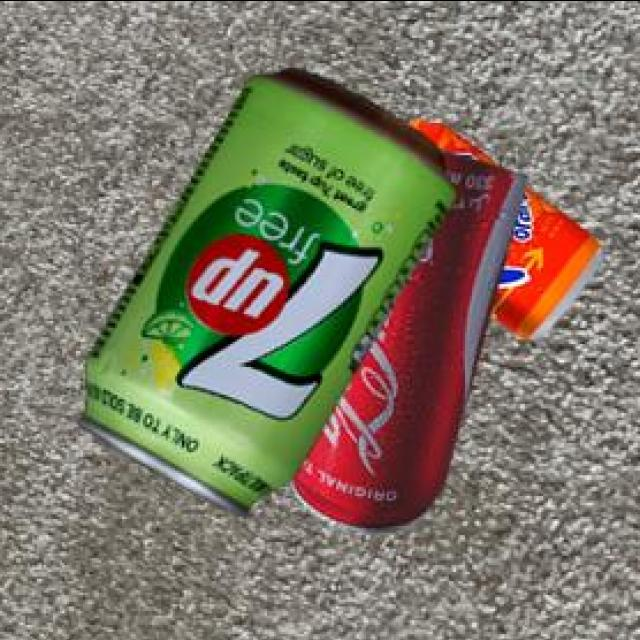logam: (75, 70, 452, 519), (287, 153, 524, 535), (406, 121, 600, 342)
